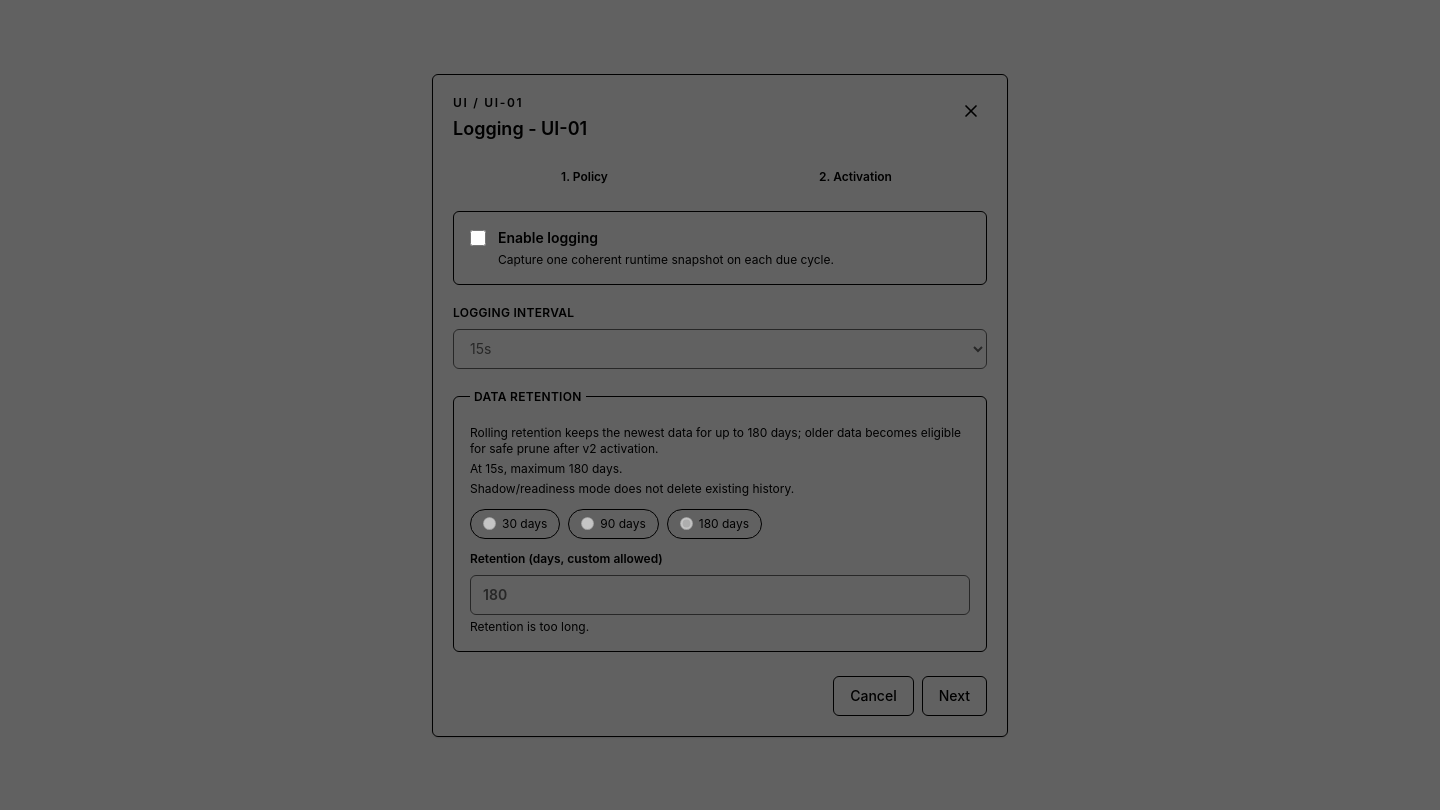
Test: PointLoggingDialog › updates the maximum when the interval changes and maps retention field errors
Click the checkbox labelled "Enable logging" at (478, 238), box [470, 230, 486, 246]
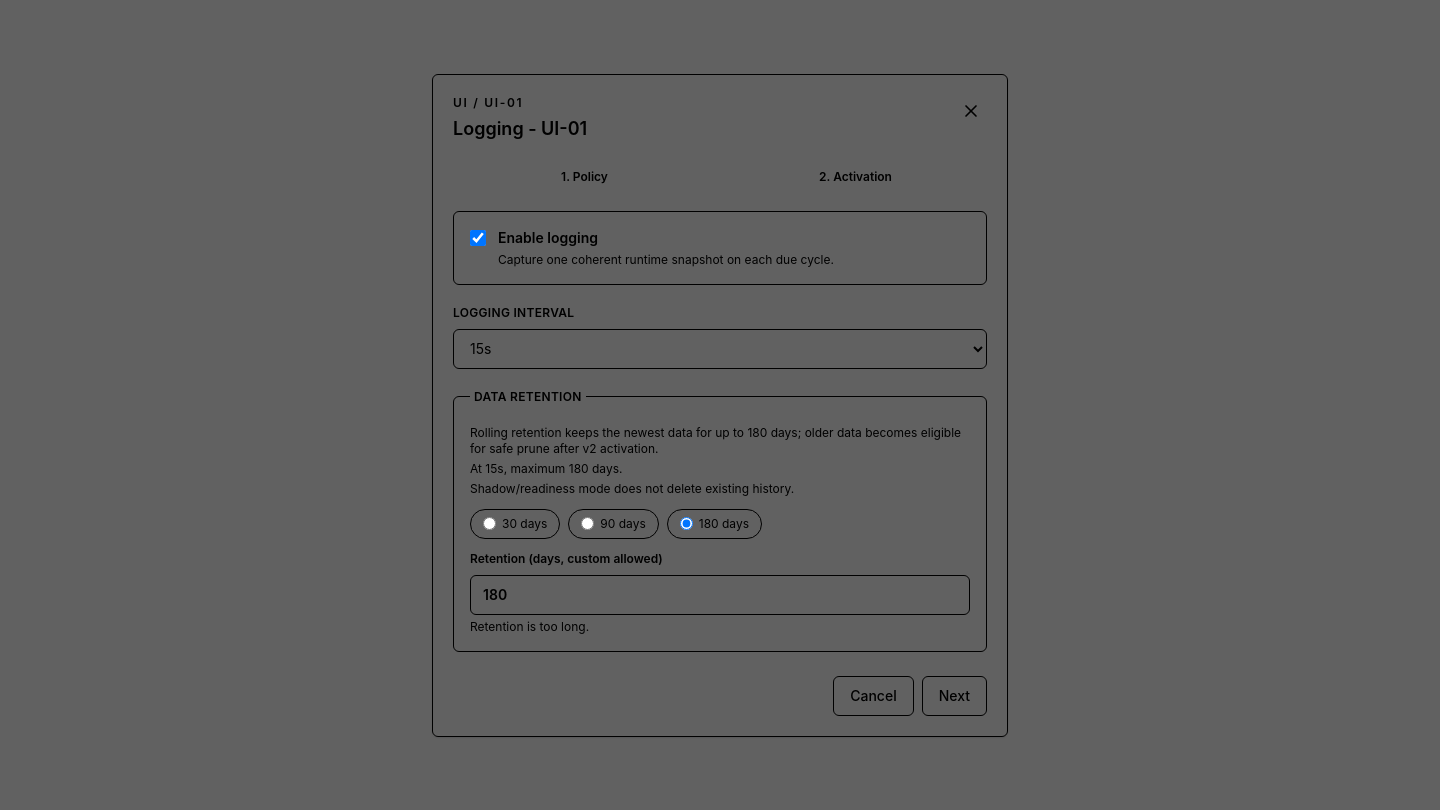
Select "1s" in the dropdown labelled "Logging interval" at (720, 348), box [453, 328, 987, 368]
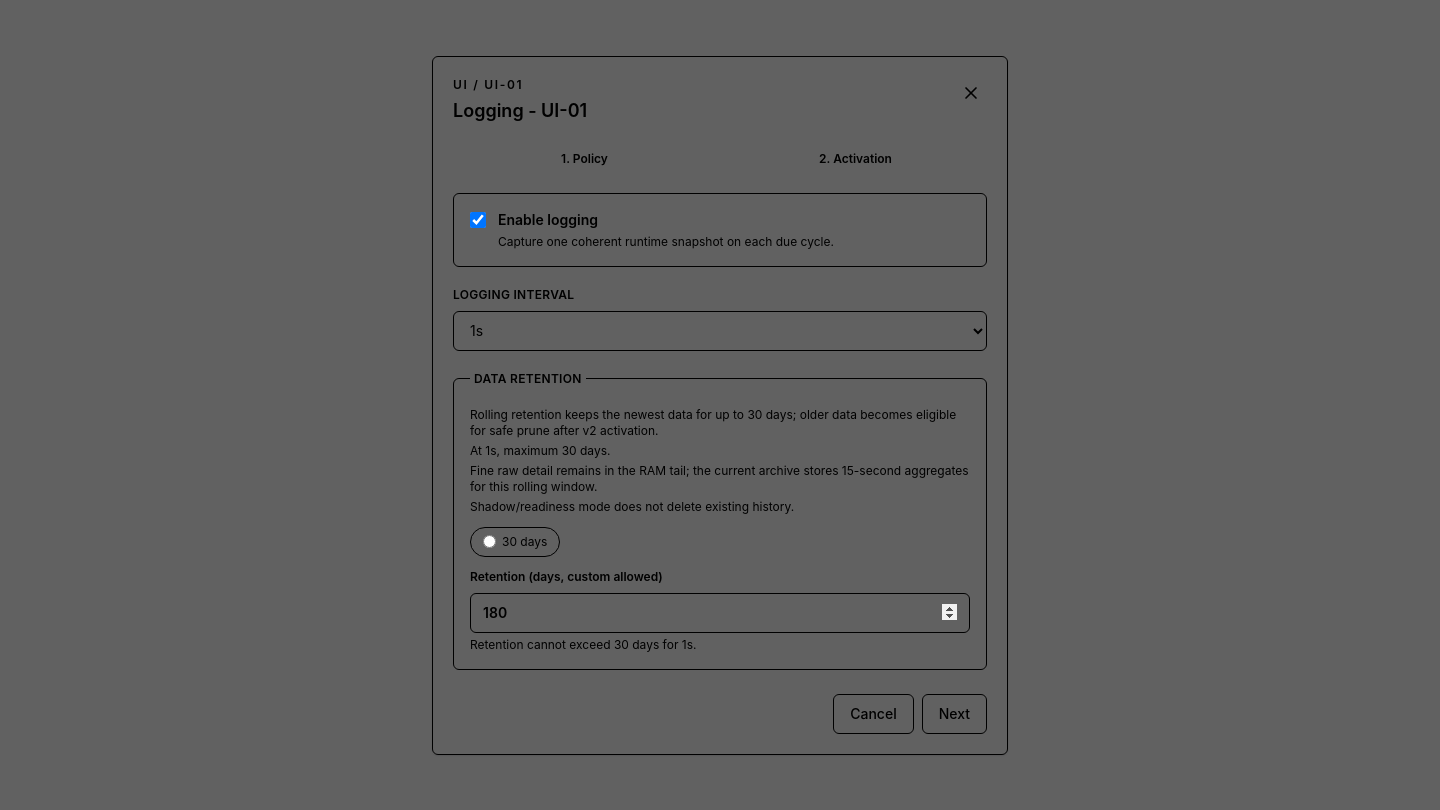
Now the text "At 1s, maximum 30 days." is shown, box [470, 442, 610, 458]
